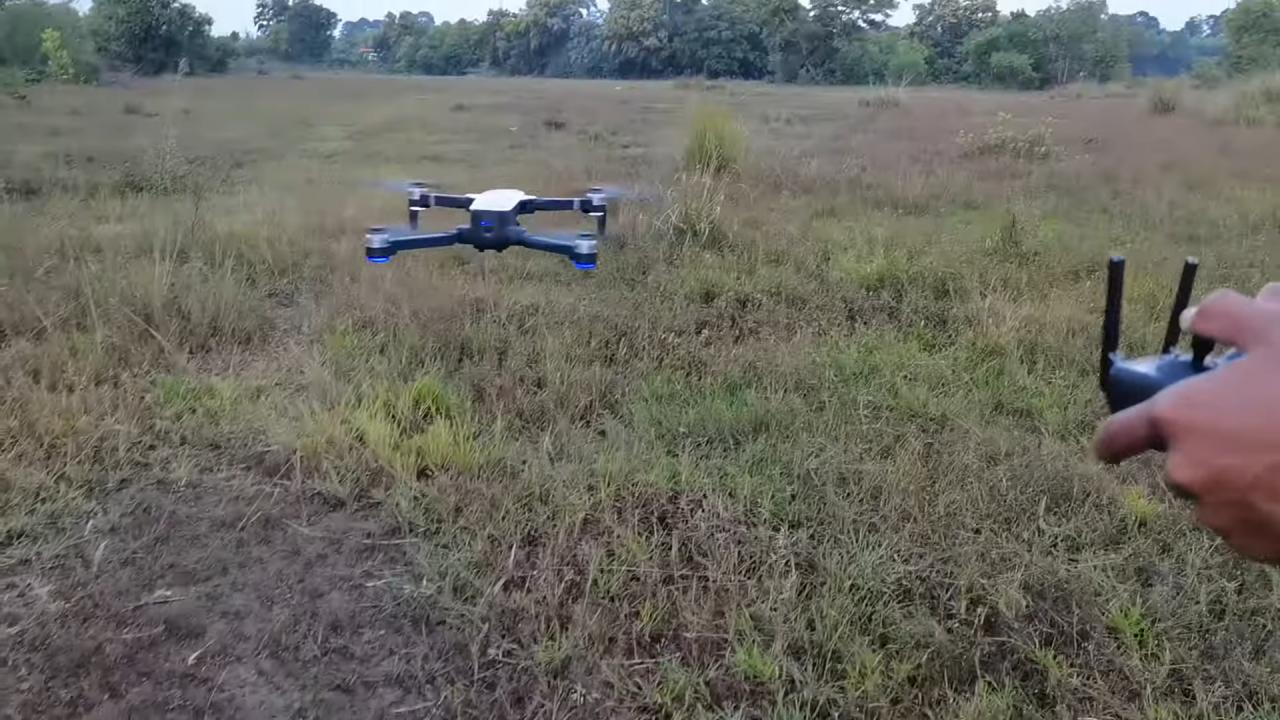Drone: (352, 168, 631, 286)
